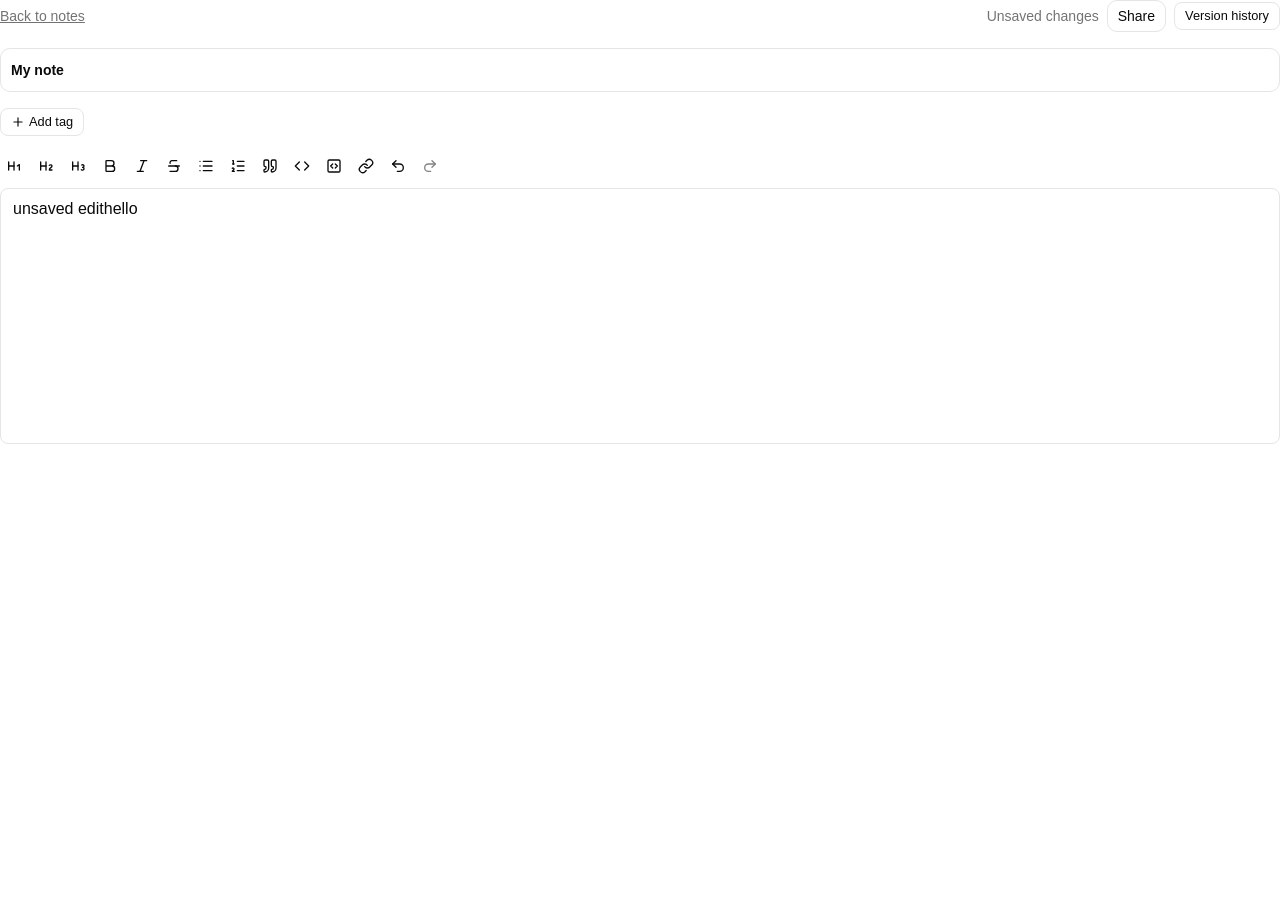
version history in the editor › S-AB1015-05: a failed flush blocks the restore
Expected: the field showing "My note" is shown, [0, 48, 1279, 92]
Click the button "Version history" at (1227, 16), box [1174, 2, 1279, 30]
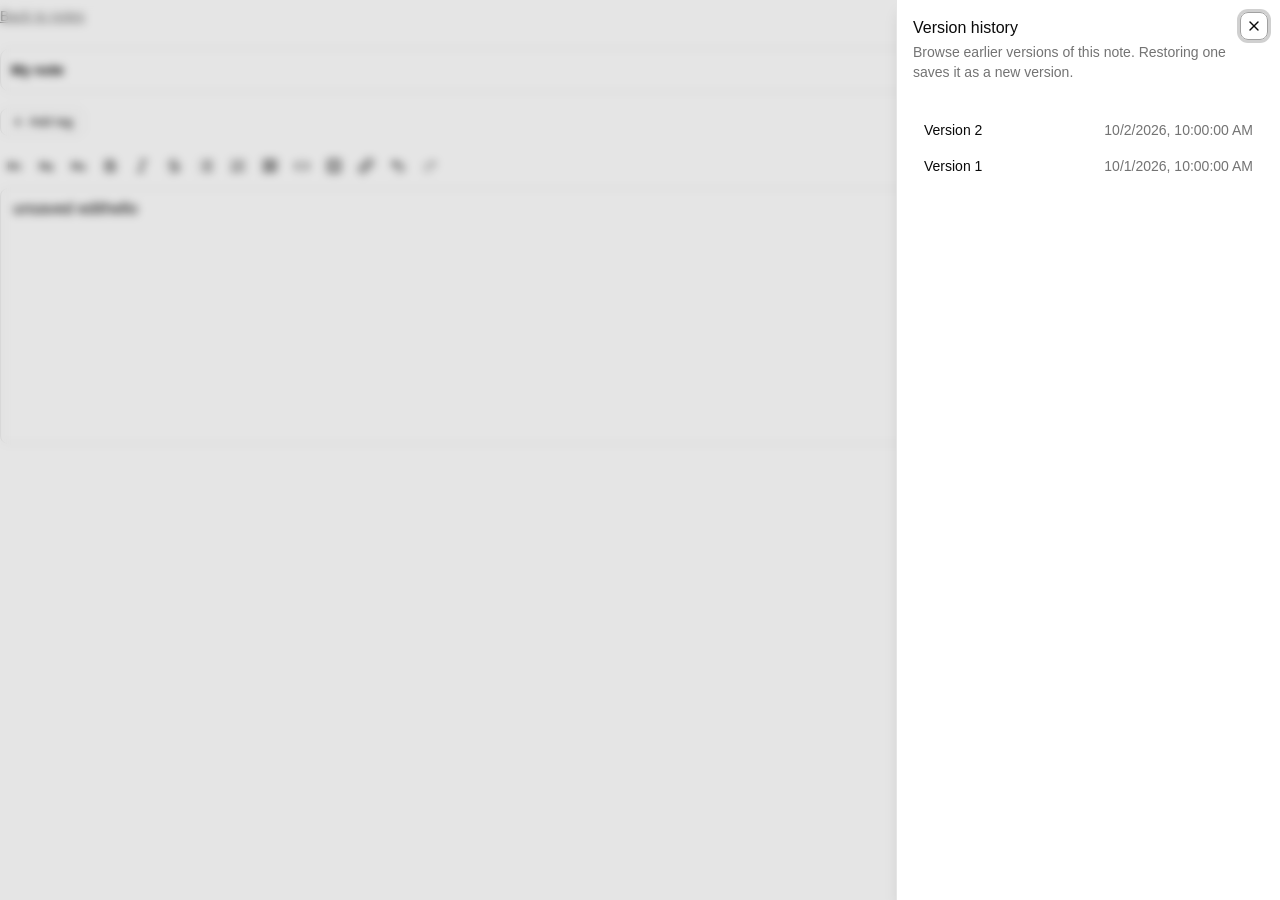
Click the button "Version 1 10/1/2026, 10:00:00 AM" at (949, 166), box [913, 150, 1264, 182]
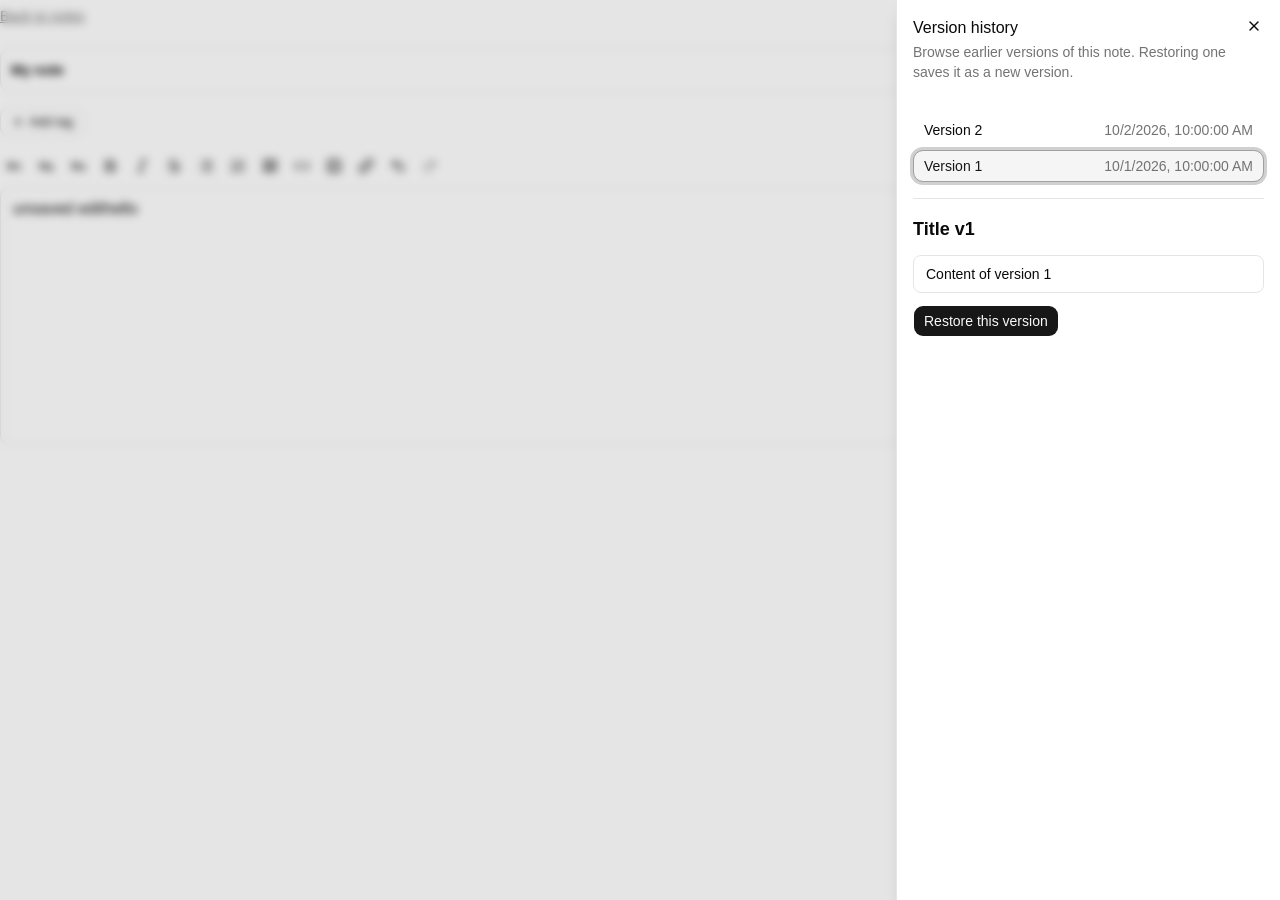
Click the button "Restore this version" at (986, 321), box [913, 305, 1059, 337]
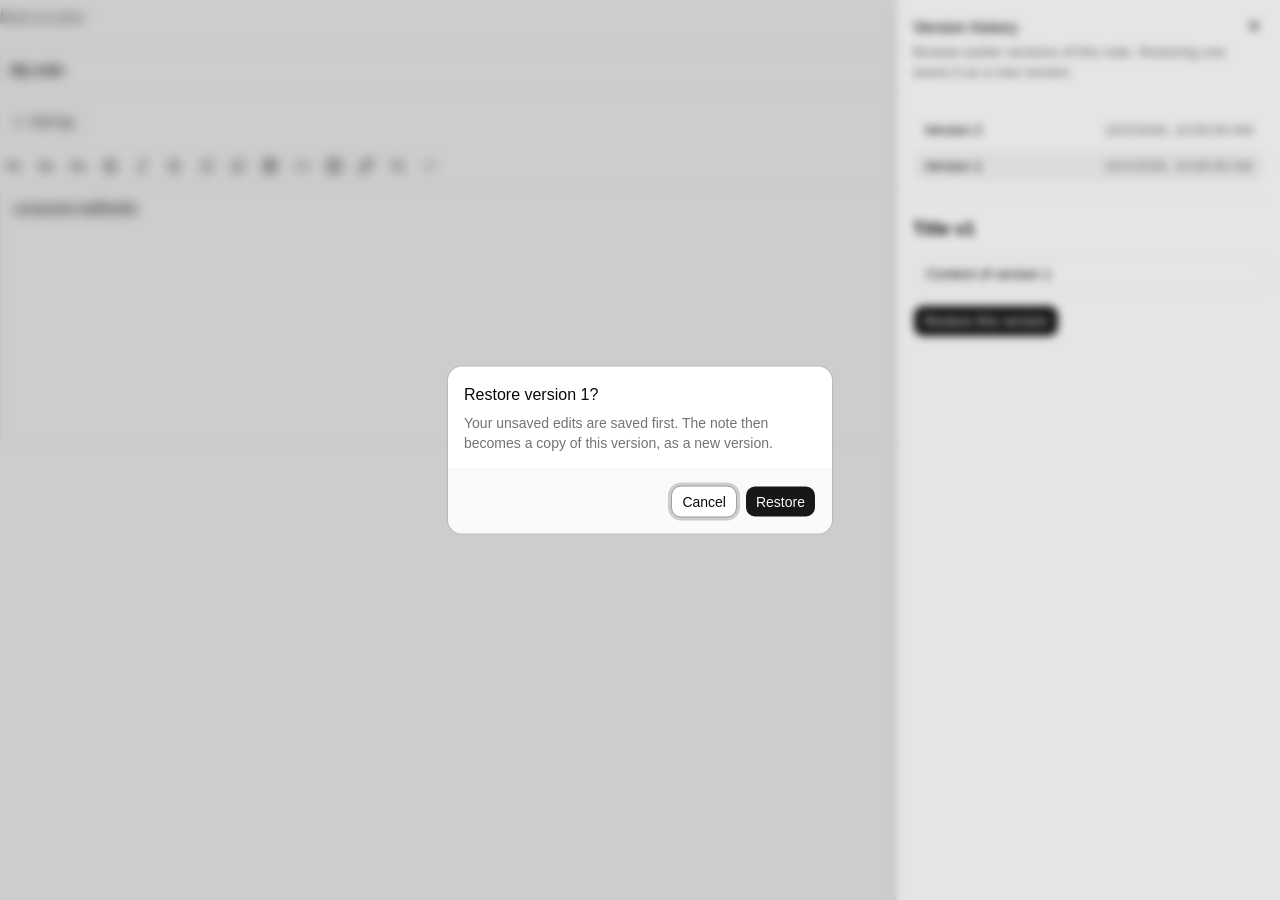
Click the button "Restore" at (780, 502), box [745, 486, 816, 518]
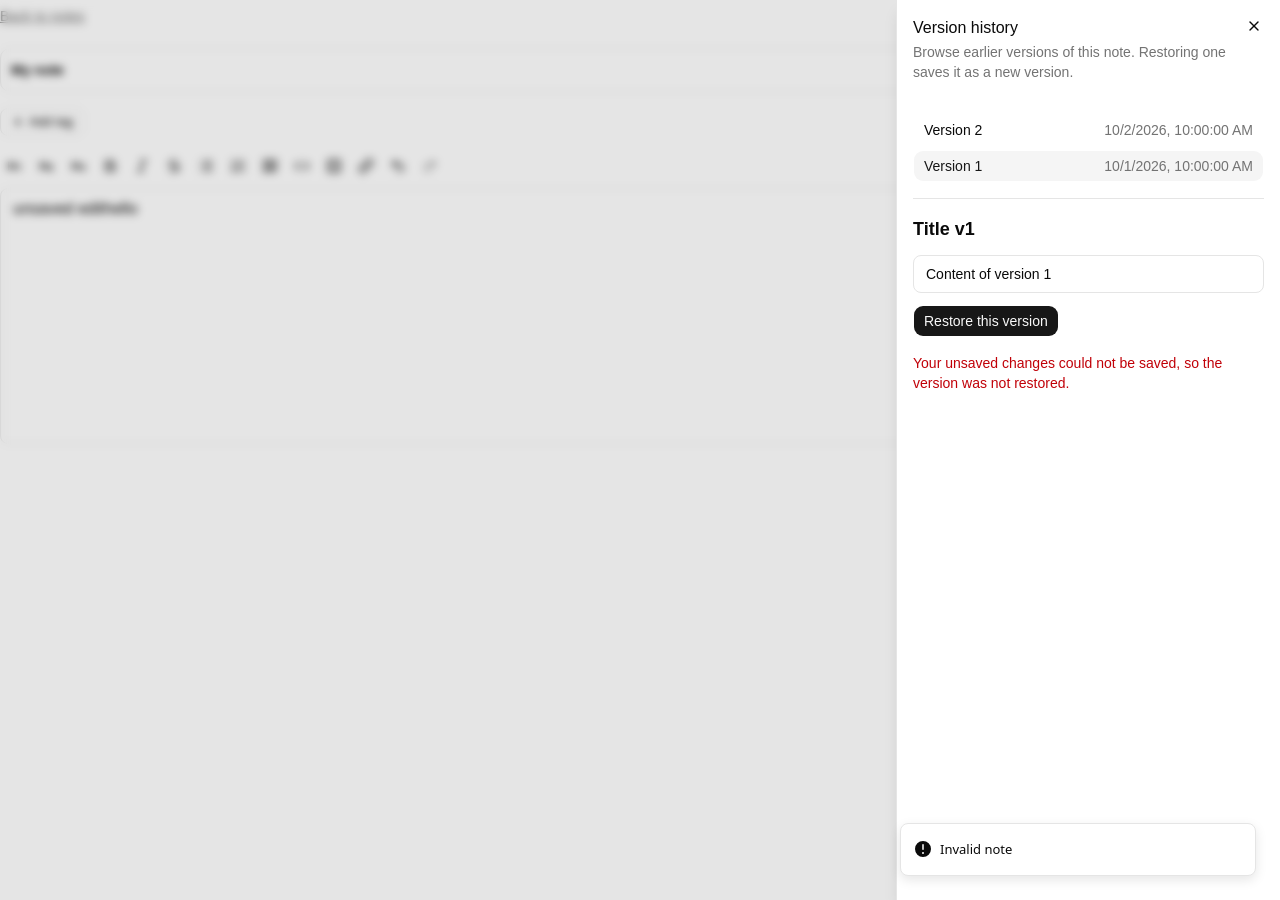
Expected: the field named "title" holds "My note", [0, 48, 1279, 92]
Expected: the text "Your unsaved changes could not be saved, so the version was not restored." is shown, [913, 353, 1264, 393]
